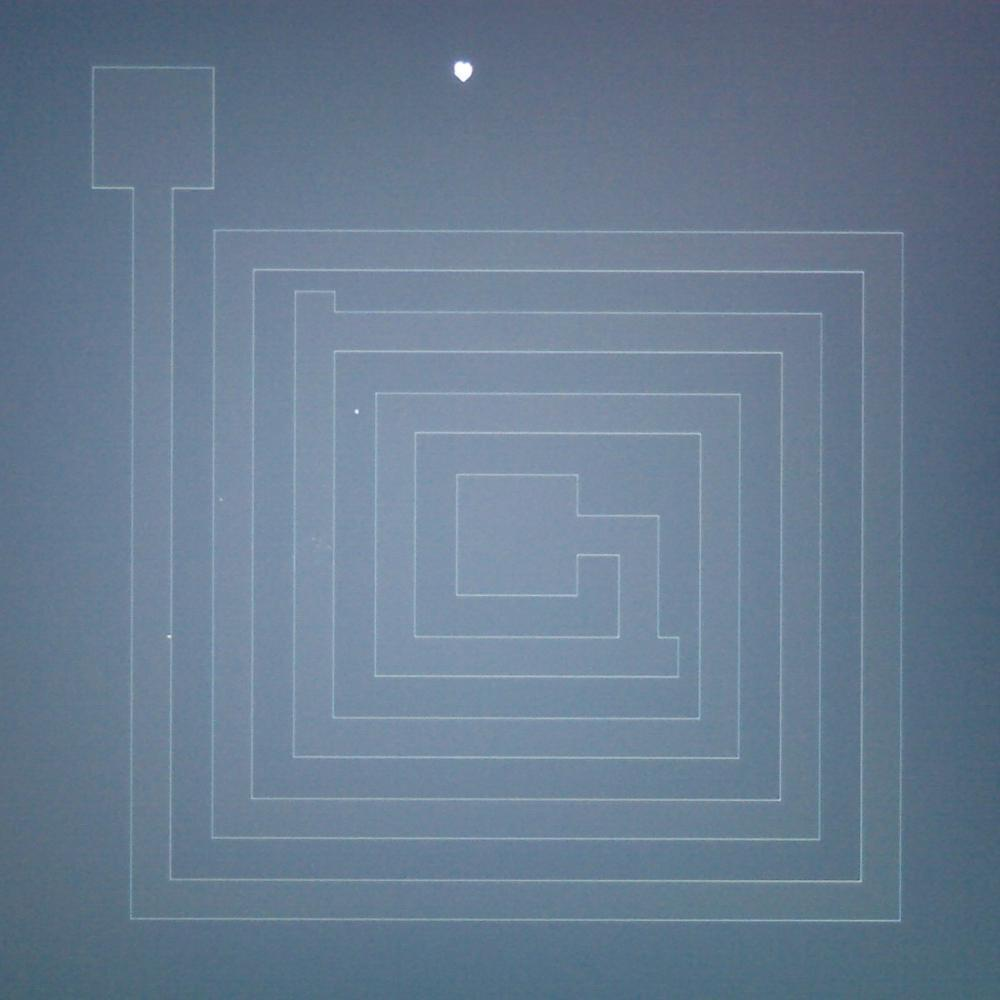budge circuit: (654, 621, 690, 690), (288, 286, 348, 327)
dot: (339, 397, 369, 430)
spot: (446, 53, 486, 90)
